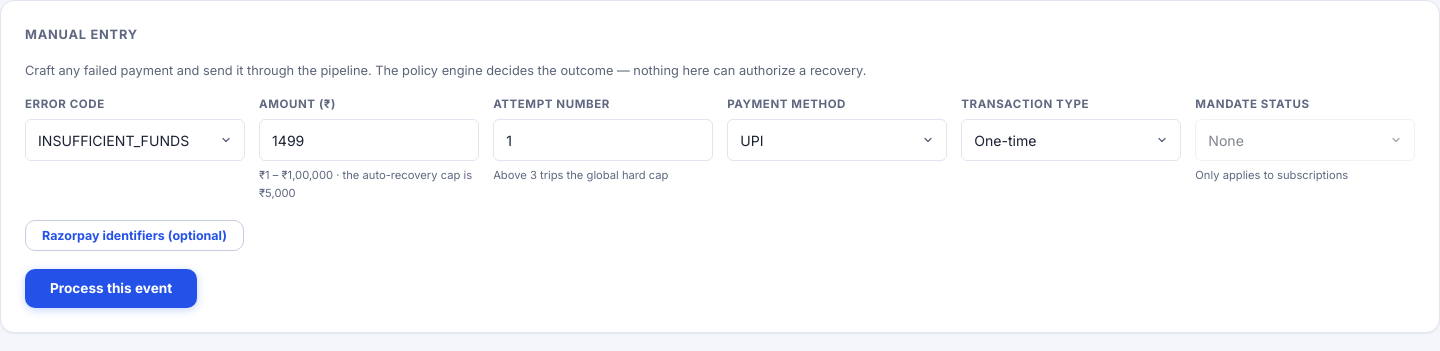
ManualEntry › flags an out-of-range amount instead of silently fixing it
Step 1. Replace the text in the number field with test id "manual-amount" with "500000" → (369, 140), box [259,119,479,161]
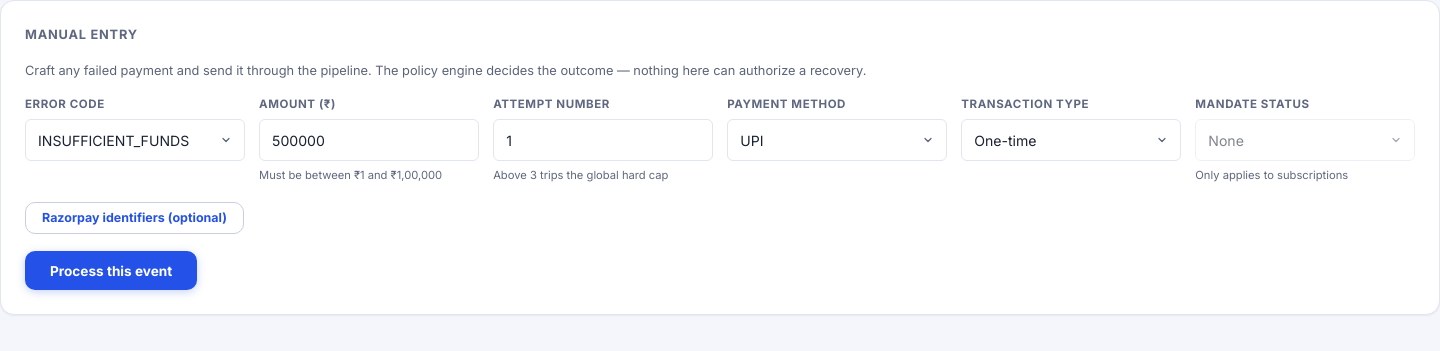
Expected: the text "Must be between ₹1 and ₹1,00,000" is shown, [259,168,442,182]
